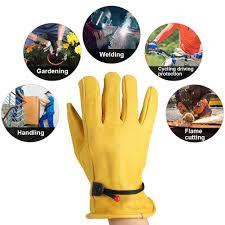gloves: (66, 71, 159, 219)
